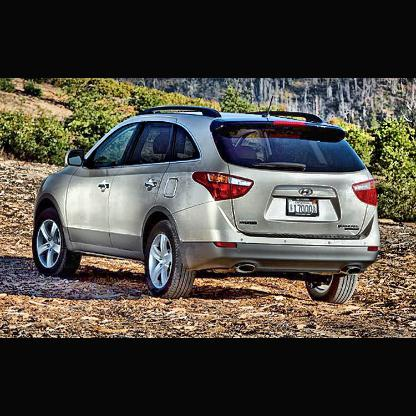Hyundai Veracruz SUV 2012: (33, 94, 384, 304)
